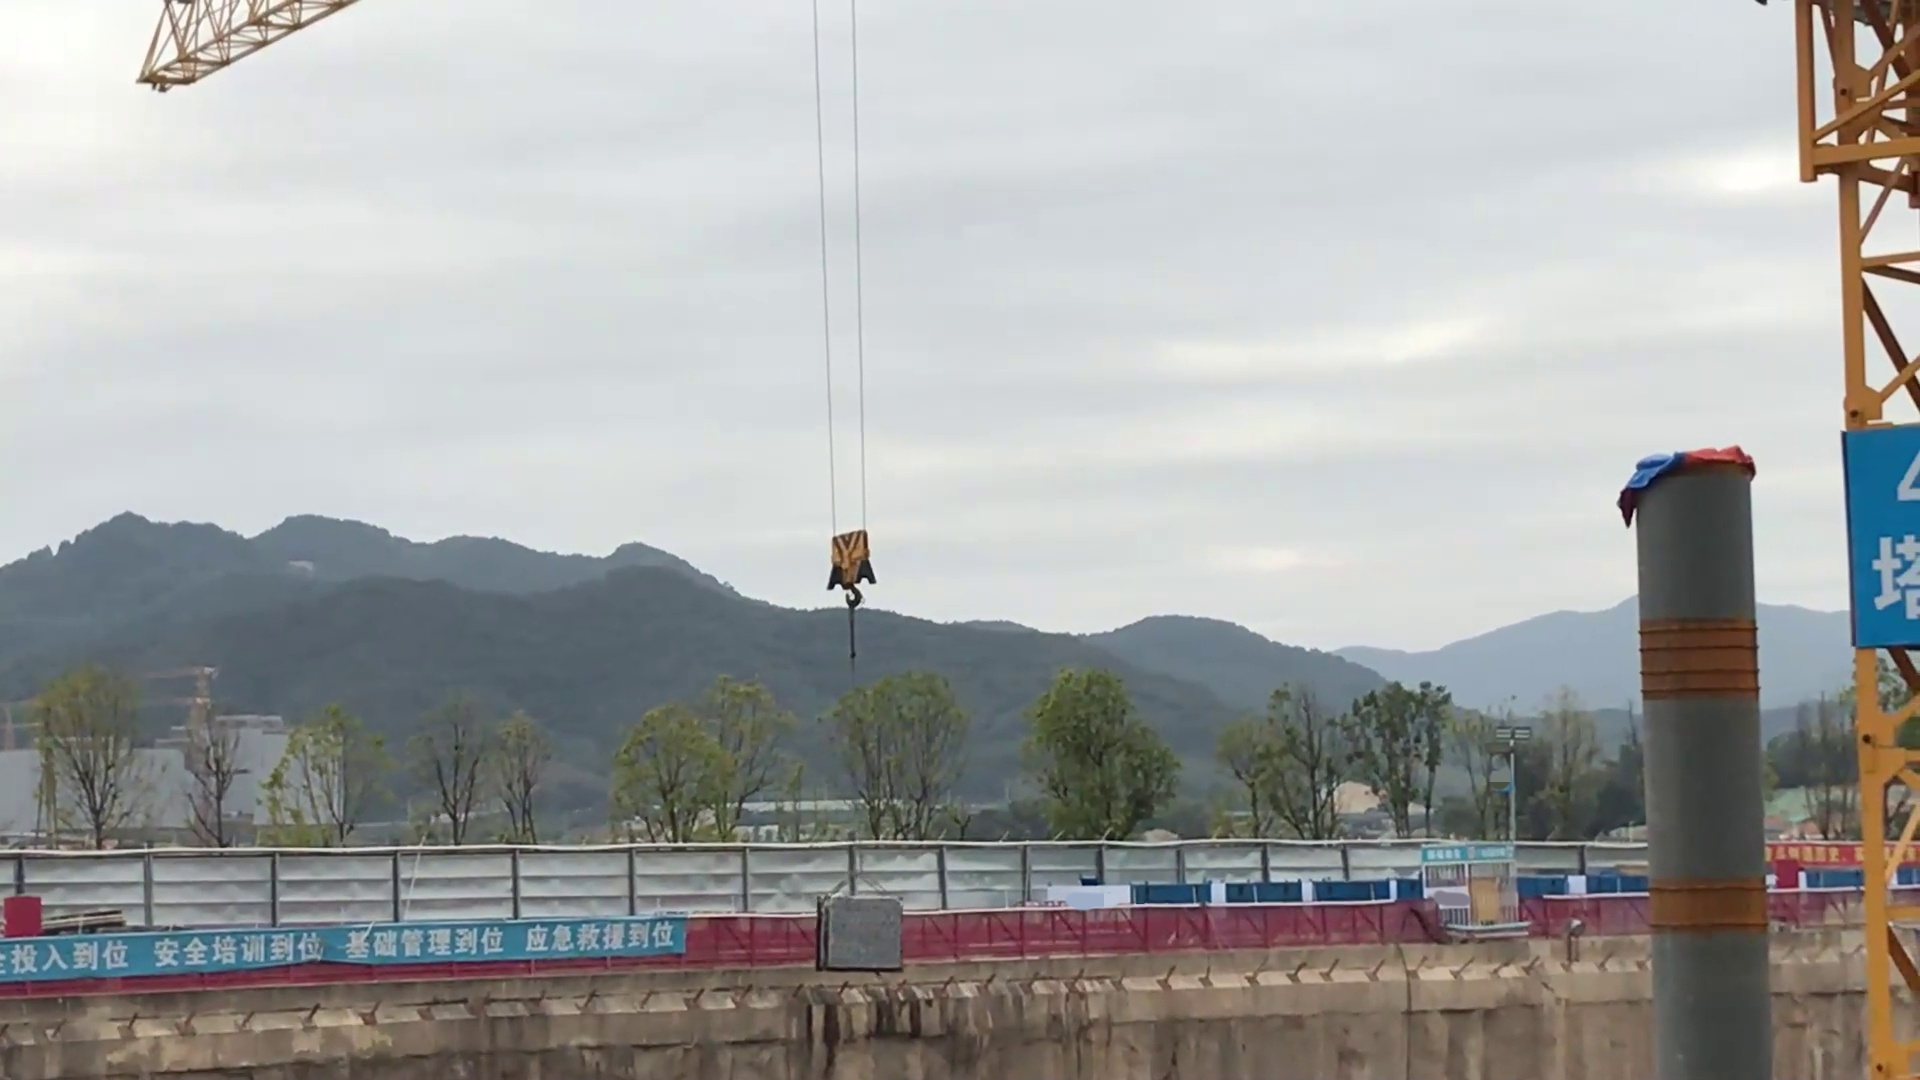fence: (5, 889, 1913, 996)
hook: (822, 524, 880, 618)
scaffold: (818, 891, 910, 975)
slogan: (1, 927, 683, 973), (1776, 840, 1920, 868)
